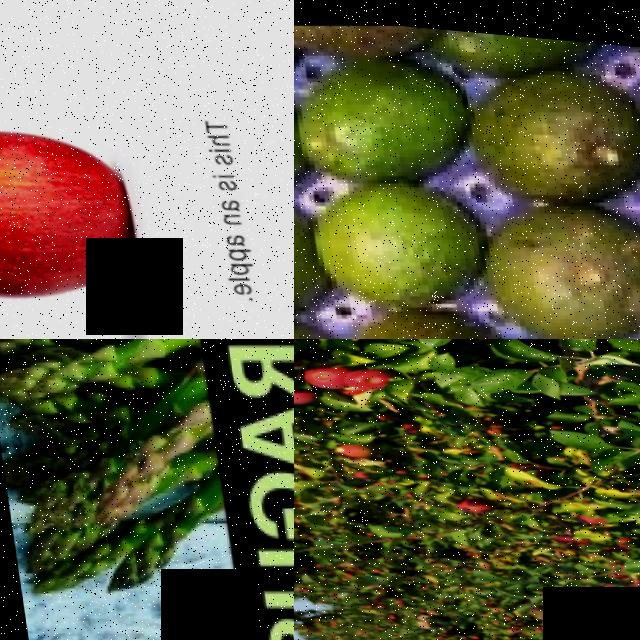apple: (0, 97, 149, 319), (335, 360, 401, 389), (294, 357, 345, 388), (323, 436, 374, 457), (450, 484, 489, 508), (294, 383, 317, 403)
asparagus: (0, 339, 234, 621)
avocado: (439, 48, 640, 210), (460, 173, 640, 339), (301, 166, 490, 318), (294, 40, 470, 195), (294, 9, 458, 71), (320, 292, 512, 339)
